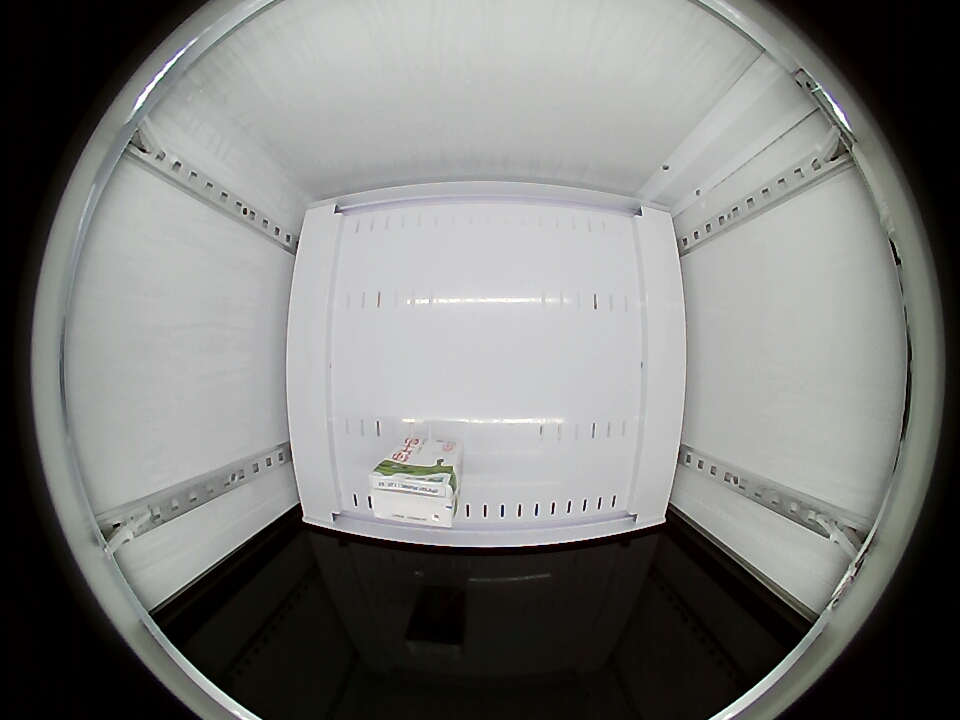mengniu: (368, 462, 461, 527)
